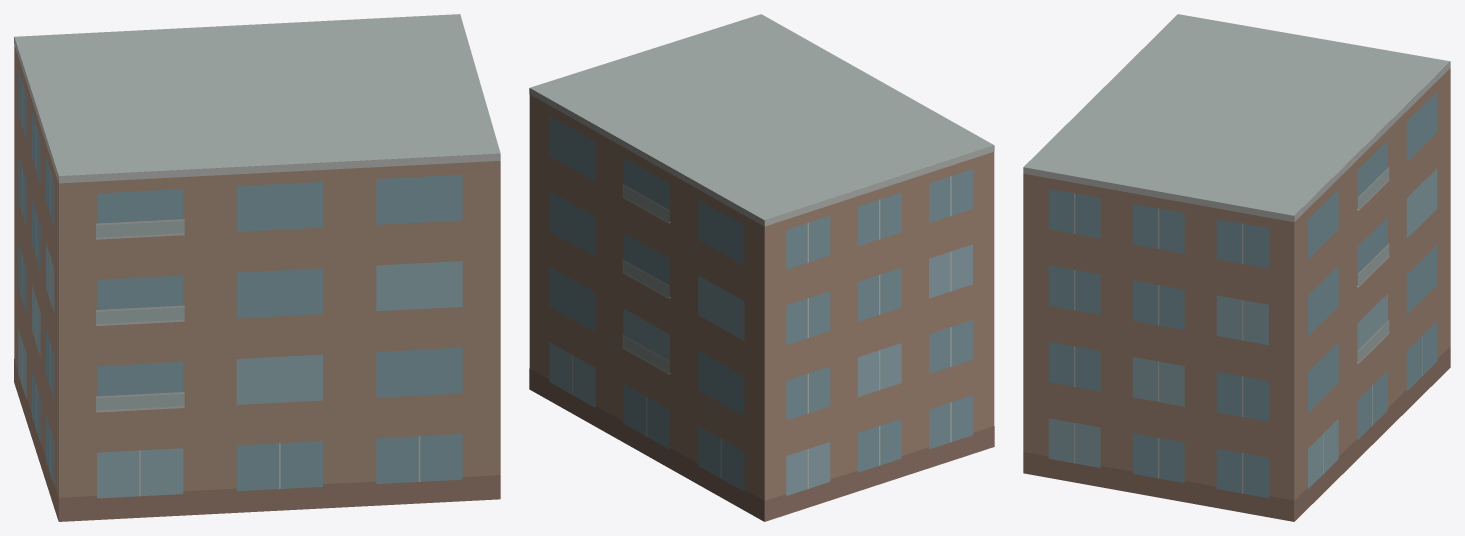
The model's file is survey-upis-32589581.glb.
3 views of the same model, side by side, from view 1: azimuth 30°, elevation 25°; view 2: azimuth 150°, elevation 25°; view 3: azimuth 270°, elevation 25° (orthographic). The views are drawn at different scales.
Parts seen in each view (by area): view 1: survey-upis-32589581.tmp; view 2: survey-upis-32589581.tmp; view 3: survey-upis-32589581.tmp.
Part boxes in pixels (x1,y1,x2,y2): survey-upis-32589581.tmp: (14, 14, 500, 521); survey-upis-32589581.tmp: (529, 14, 994, 521); survey-upis-32589581.tmp: (1023, 14, 1450, 521).
Bounding box in the file's own units: 16.42 × 11.6 × 14.69.
